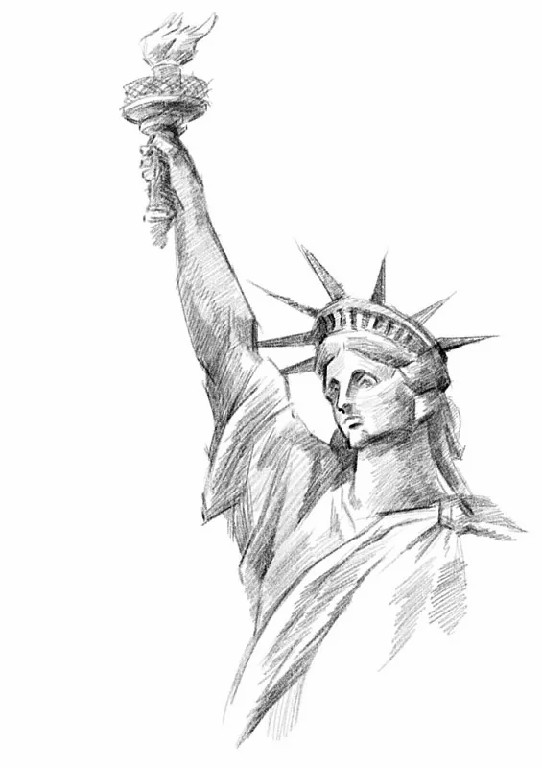SL: (125, 13, 529, 753)
